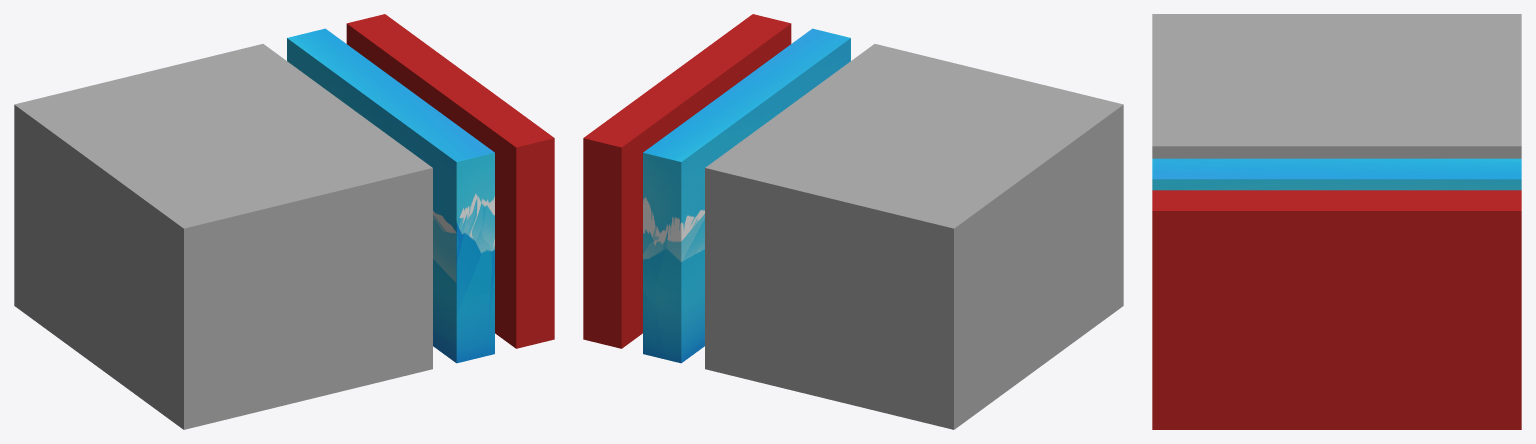
3 renders of one model, left to right at view 1: azimuth 30°, elevation 25°; view 2: azimuth 150°, elevation 25°; view 3: azimuth 270°, elevation 25°, orthographic. The views are drawn at different scales.
Bounding box in the file's own units: 1.9 × 0.9828 × 1.5.
Materials: 3 (1 with a texture image).
